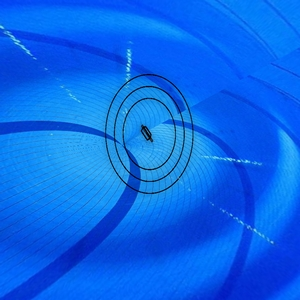circle: (99, 70, 201, 197)
submarine: (138, 121, 161, 151)
